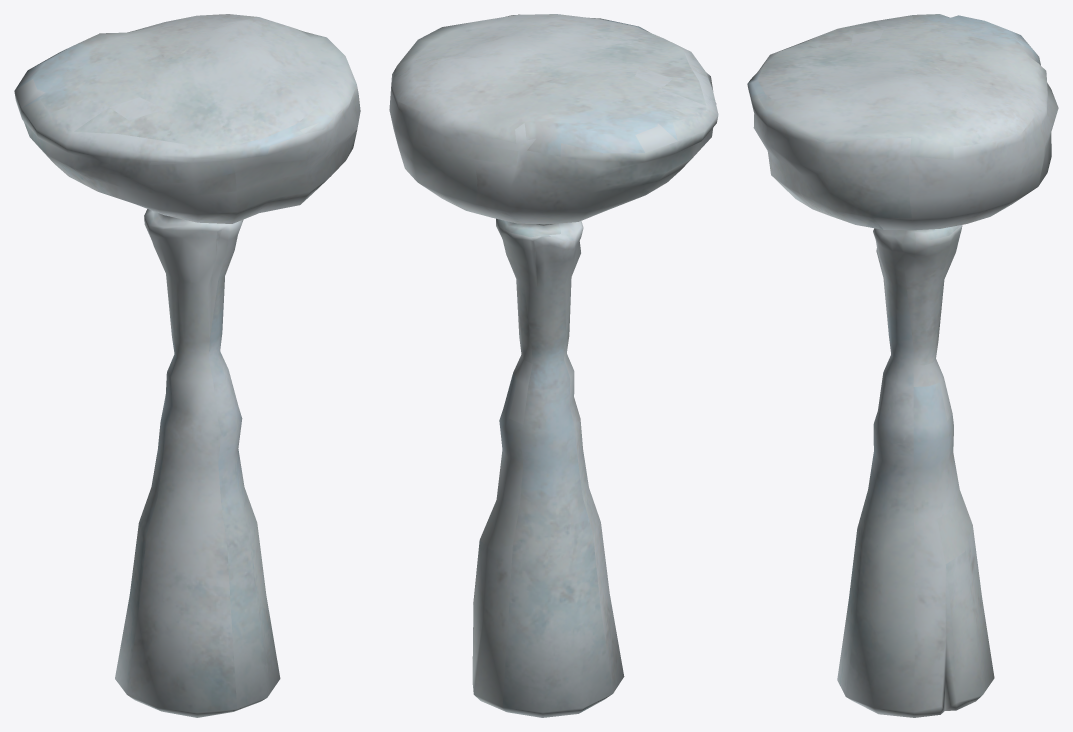
File: P_RockDesert_Hoodoo03.obj
3 renders of one model, left to right at view 1: azimuth 30°, elevation 25°; view 2: azimuth 150°, elevation 25°; view 3: azimuth 270°, elevation 25°, orthographic.
Size of the model in its own units: 8.04 by 16.42 by 7.35.
